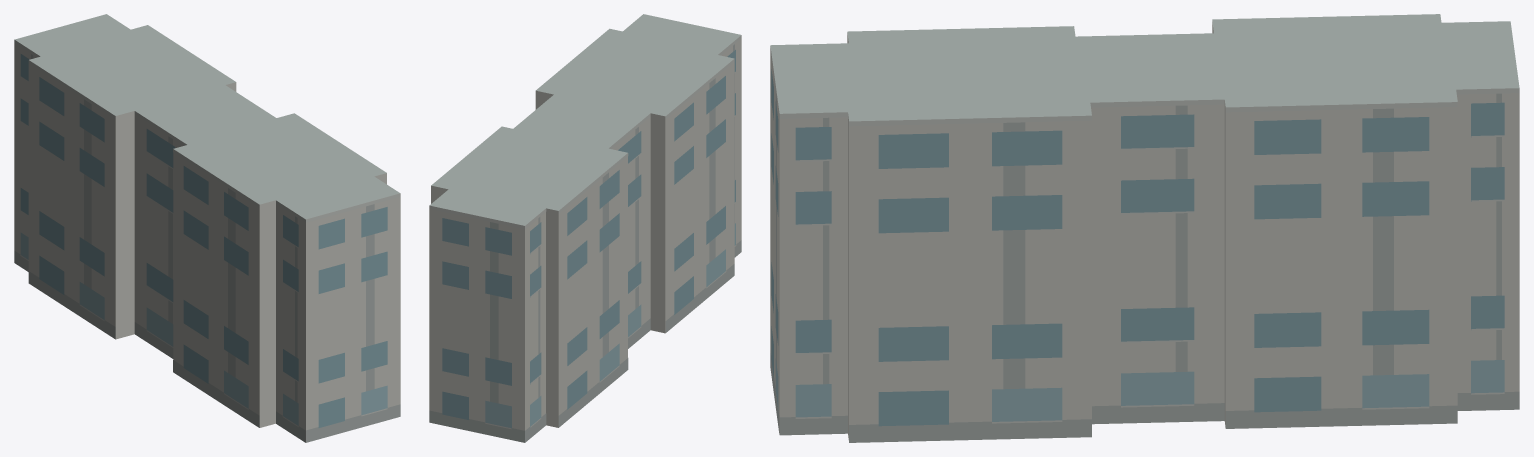
The model's file is survey-upis-32813683.glb.
The picture shows the model from 3 angles, left to right: view 1: azimuth 30°, elevation 25°; view 2: azimuth 150°, elevation 25°; view 3: azimuth 270°, elevation 25°; orthographic projection. The views are drawn at different scales.
Parts seen in each view (by area): view 1: survey-upis-32813683.tmp; view 2: survey-upis-32813683.tmp; view 3: survey-upis-32813683.tmp.
Boxes of the visible parts, x1,y1,x2,y2 form: survey-upis-32813683.tmp: [14, 14, 400, 442]; survey-upis-32813683.tmp: [429, 14, 741, 442]; survey-upis-32813683.tmp: [770, 14, 1519, 442].
Bounding box in the file's own units: 10.94 × 15.25 × 32.22.
